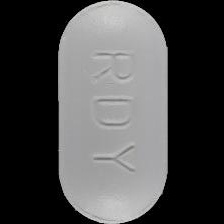53808-1067: (0, 0, 224, 224)
